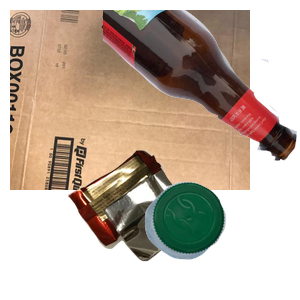cardboard: (10, 10, 250, 190)
glass: (103, 10, 300, 163)
plastic: (142, 179, 300, 300)
trash: (65, 148, 258, 300)
